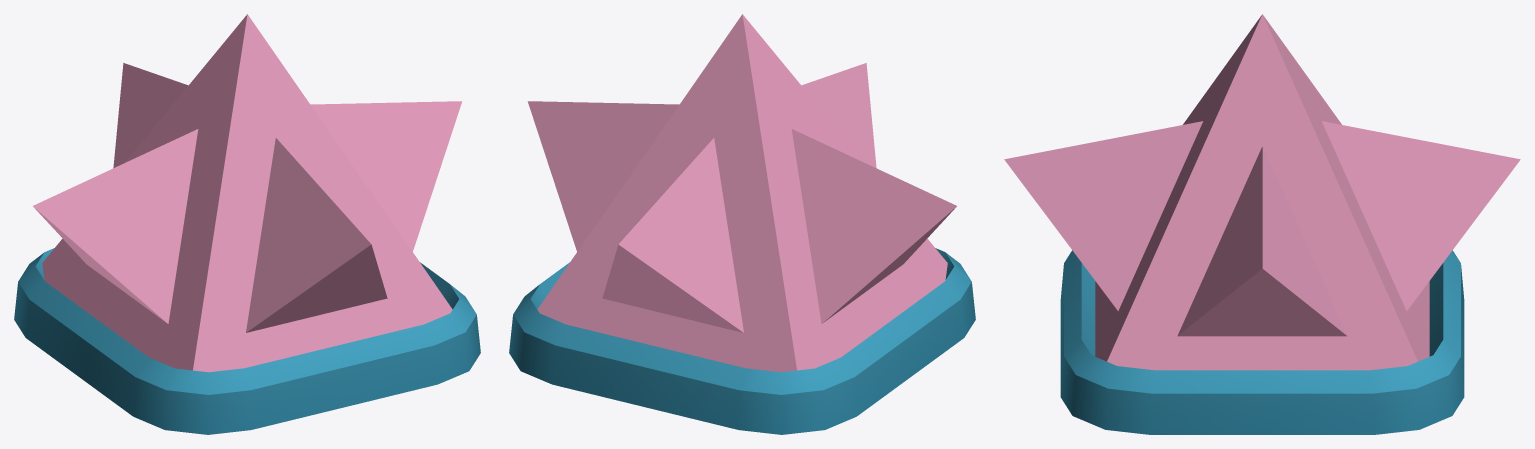
File: Obstacle-5.fbx
3 renders of one model, left to right at view 1: azimuth 30°, elevation 25°; view 2: azimuth 150°, elevation 25°; view 3: azimuth 270°, elevation 25°, orthographic. The views are drawn at different scales.
Visible parts, largest first — view 1: Obs-5; view 2: Obs-5; view 3: Obs-5.
Boxes of the visible parts, box(x1,y1,x2,y2) form: Obs-5: box(14, 14, 480, 434); Obs-5: box(509, 14, 975, 434); Obs-5: box(1004, 14, 1520, 434).
Bounding box in the file's own units: 1.53 × 1.1 × 1.53.
